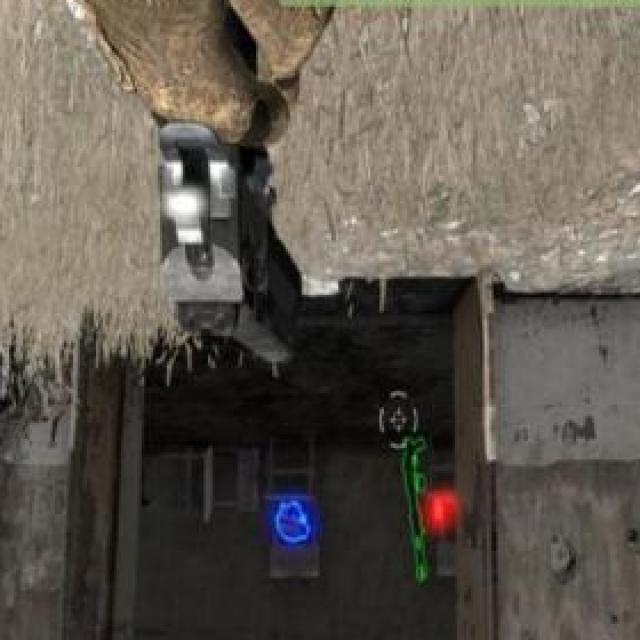pistol: (153, 81, 310, 384)
